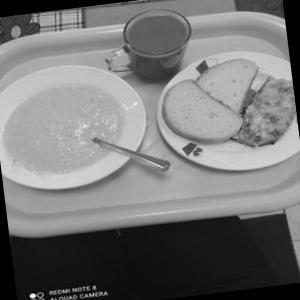bread: (156, 65, 260, 156)
cheese_sandwich: (235, 66, 300, 158)
coffee: (114, 2, 200, 104)
porridge: (0, 64, 131, 183)
